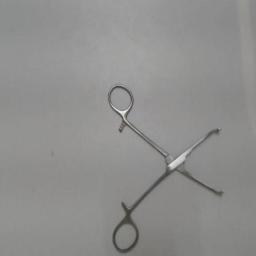Allis Tissue Forceps: (104, 80, 228, 254)
